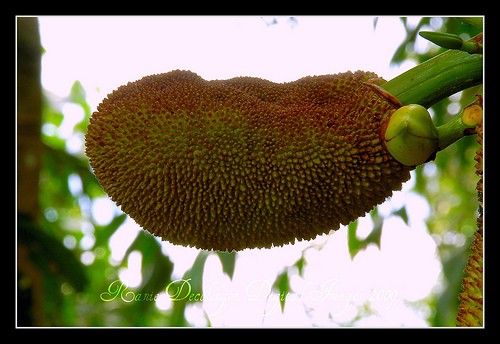jackfruit: (83, 40, 481, 254)
